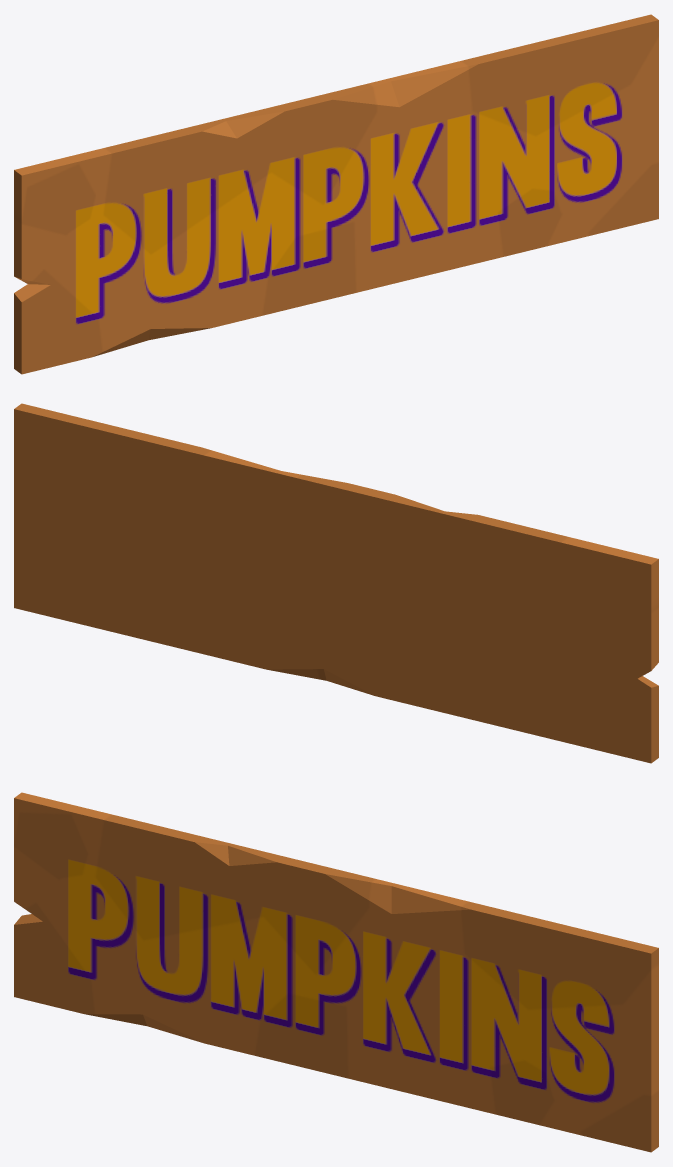
File: SM_Prop_Sign_Pumpkins_01.fbx
3 renders of one model, top to bottom at view 1: azimuth 30°, elevation 25°; view 2: azimuth 150°, elevation 25°; view 3: azimuth 330°, elevation 25°, orthographic.
Parts seen in each view (by area): view 1: SM_Prop_Sign_Pumpkins_01; view 2: SM_Prop_Sign_Pumpkins_01; view 3: SM_Prop_Sign_Pumpkins_01.
Part boxes in pixels (left/top/right/bottom): SM_Prop_Sign_Pumpkins_01: left=14, top=14, right=658, bottom=374; SM_Prop_Sign_Pumpkins_01: left=14, top=403, right=658, bottom=763; SM_Prop_Sign_Pumpkins_01: left=14, top=792, right=658, bottom=1152.
Size of the model in its own units: 115 by 34.18 by 2.41.
